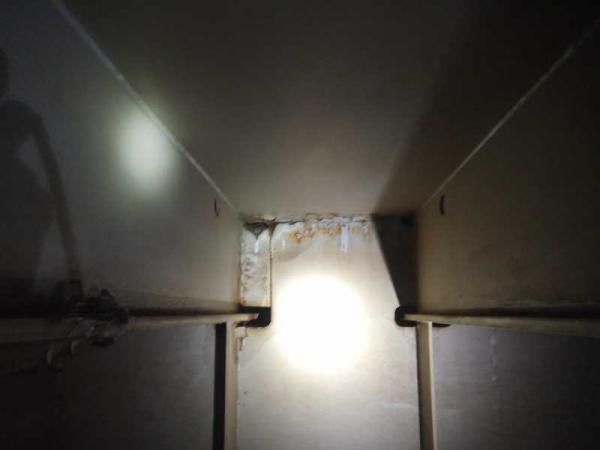corrosion: (281, 216, 375, 245)
